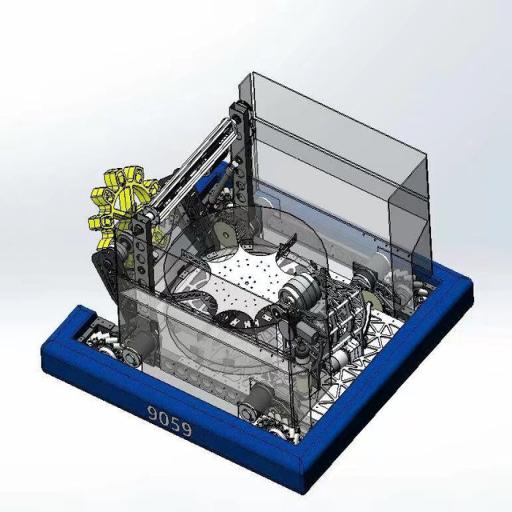robot: (39, 60, 477, 497)
